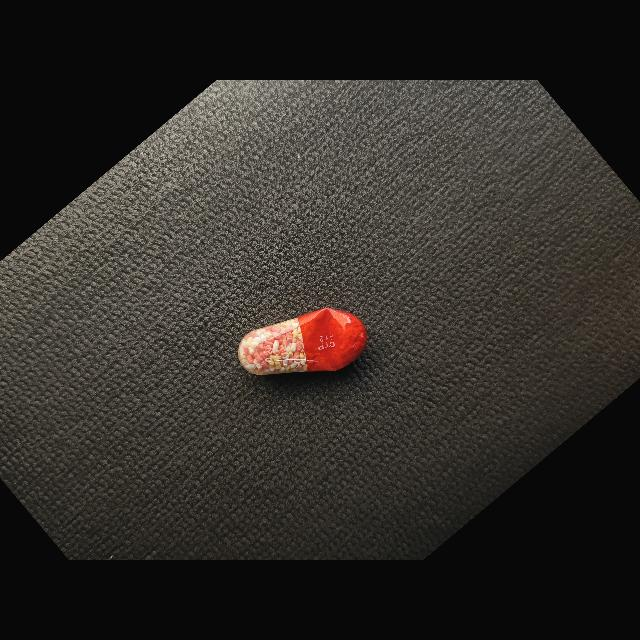Defective Capsule: (238, 308, 367, 375)
